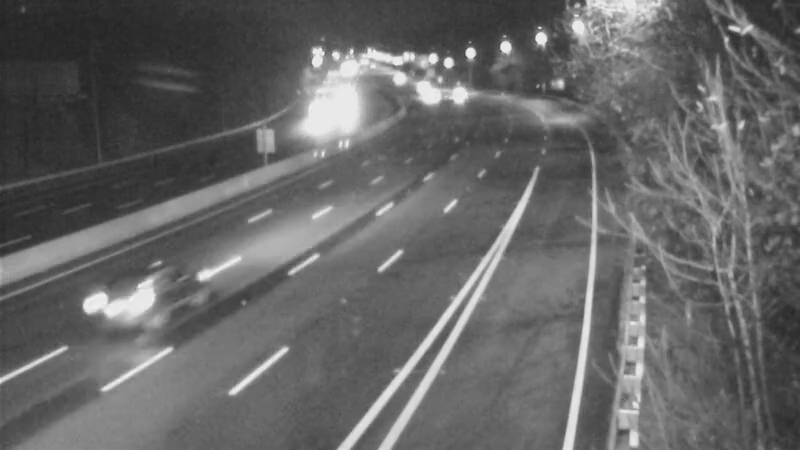vehicle: (75, 252, 185, 362), (369, 53, 419, 103), (394, 62, 444, 112), (427, 68, 477, 118), (402, 71, 452, 121), (287, 95, 337, 145)
